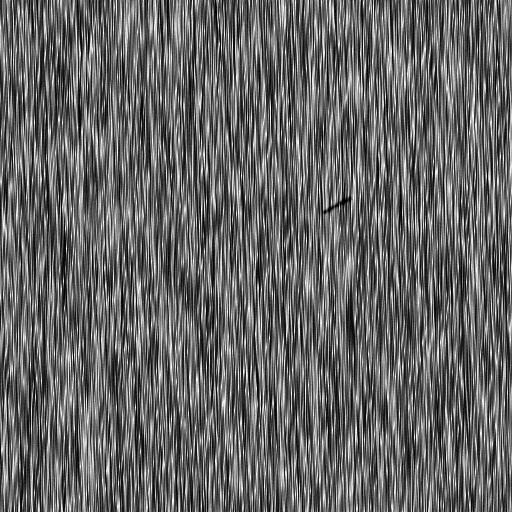DefectTypeC: (322, 195, 353, 212)
